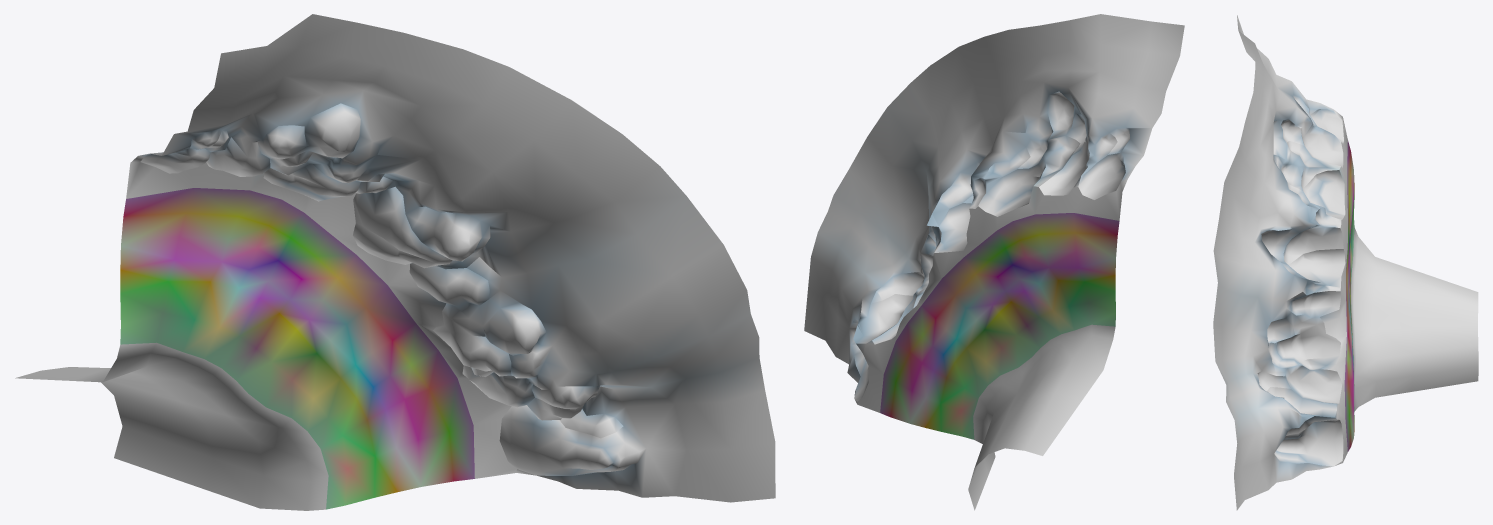
File: Snow_CurveInC.glb
3 views of the same model, side by side, from view 1: azimuth 30°, elevation 25°; view 2: azimuth 150°, elevation 25°; view 3: azimuth 270°, elevation 25° (orthographic). The views are drawn at different scales.
Visible parts, largest first — view 1: MeshNode_1, MeshNode_0; view 2: MeshNode_1, MeshNode_0; view 3: MeshNode_1, MeshNode_0.
Part boxes in pixels (left/top/right/bottom): MeshNode_1: left=15, top=14, right=775, bottom=510; MeshNode_0: left=120, top=188, right=474, bottom=509; MeshNode_1: left=804, top=14, right=1184, bottom=510; MeshNode_0: left=880, top=213, right=1119, bottom=439; MeshNode_1: left=1213, top=15, right=1478, bottom=510; MeshNode_0: left=1344, top=141, right=1354, bottom=451.
Size of the model in its own units: 128 by 128 by 90.91.
